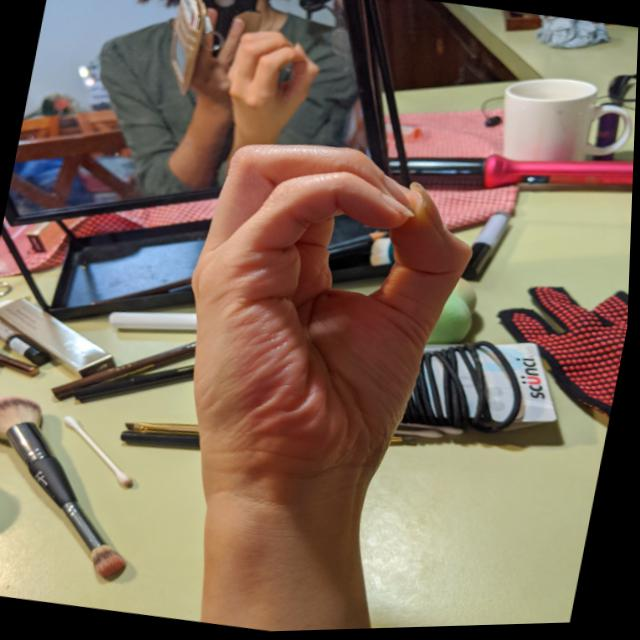O: (145, 119, 499, 544)
